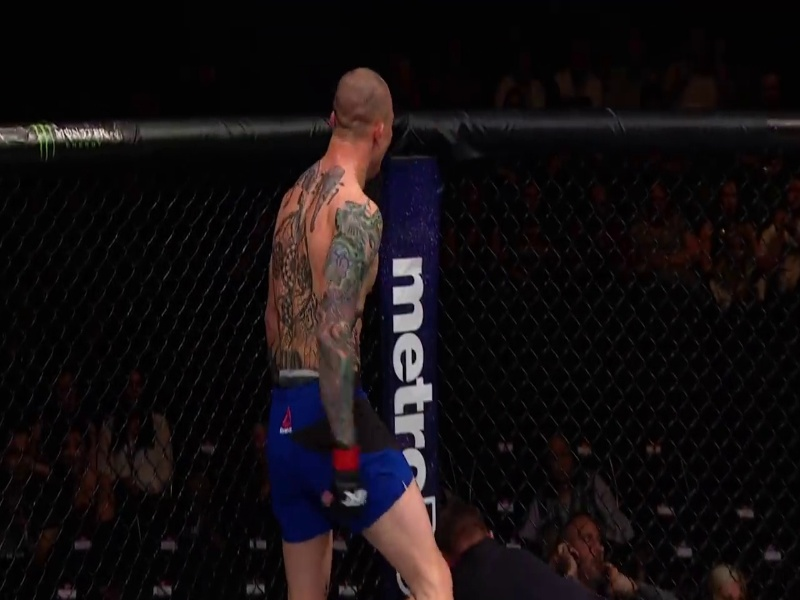fighter: (238, 64, 464, 600)
